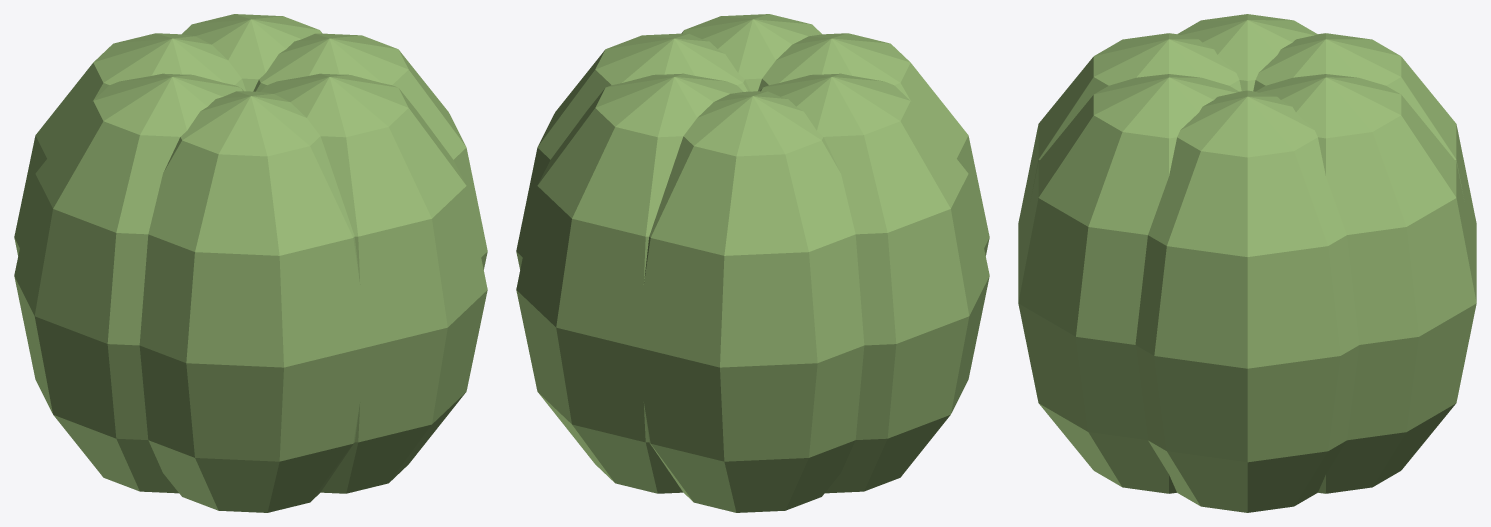
Rendered from supermarket-operations-lettuce-698ca847.glb.
The picture shows the model from 3 angles, left to right: view 1: azimuth 30°, elevation 25°; view 2: azimuth 150°, elevation 25°; view 3: azimuth 270°, elevation 25°; orthographic projection.
Parts seen in each view (by area): view 1: lettuce; view 2: lettuce; view 3: lettuce.
Part boxes in pixels (left/top/right/bottom): lettuce: left=14, top=14, right=487, bottom=512; lettuce: left=516, top=14, right=989, bottom=512; lettuce: left=1018, top=14, right=1476, bottom=512.
Size of the model in its own units: 0.11 by 0.1 by 0.1012.
